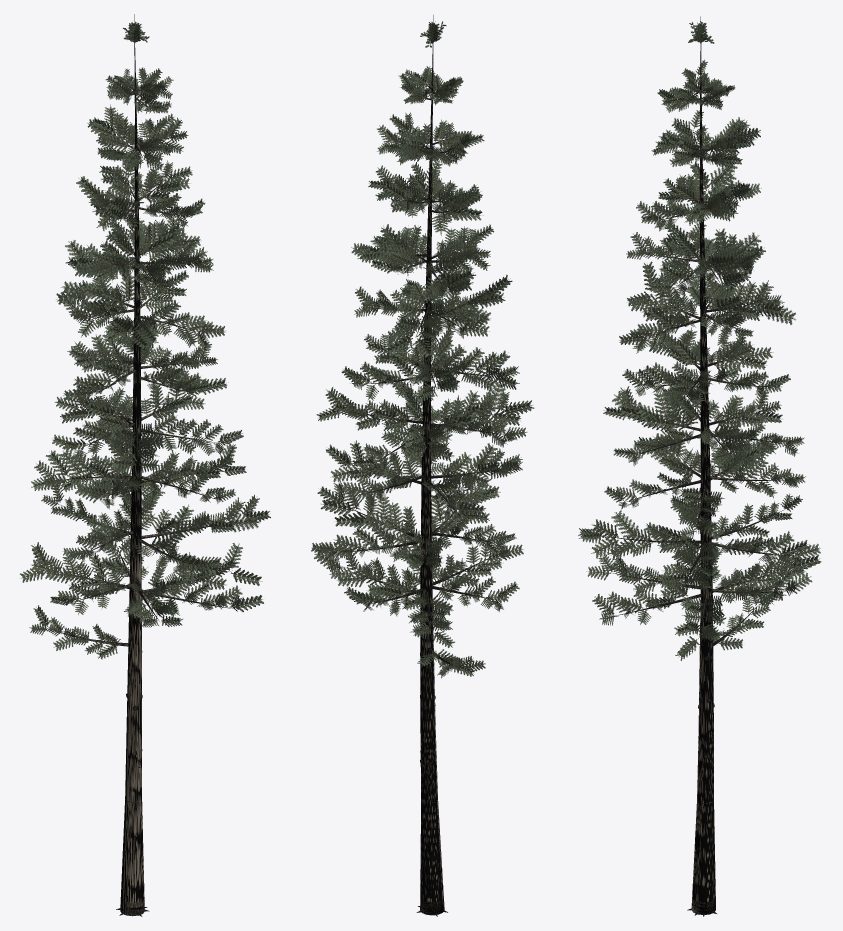
The model's file is Sitka_Young_02_MediumPruned_Healed_LOD0.fbx.
3 renders of one model, left to right at view 1: azimuth 30°, elevation 25°; view 2: azimuth 150°, elevation 25°; view 3: azimuth 270°, elevation 25°, orthographic.
Parts seen in each view (by area): view 1: Sitka_Young_02_MediumPruned_Healed_LOD0; view 2: Sitka_Young_02_MediumPruned_Healed_LOD0; view 3: Sitka_Young_02_MediumPruned_Healed_LOD0.
Boxes of the visible parts, left/top/right/bottom form: Sitka_Young_02_MediumPruned_Healed_LOD0: left=20, top=14, right=270, bottom=916; Sitka_Young_02_MediumPruned_Healed_LOD0: left=311, top=15, right=534, bottom=916; Sitka_Young_02_MediumPruned_Healed_LOD0: left=578, top=16, right=821, bottom=916.
Size of the model in its own units: 263 by 1050 by 273.
Materials: 3 (3 with a texture image).
